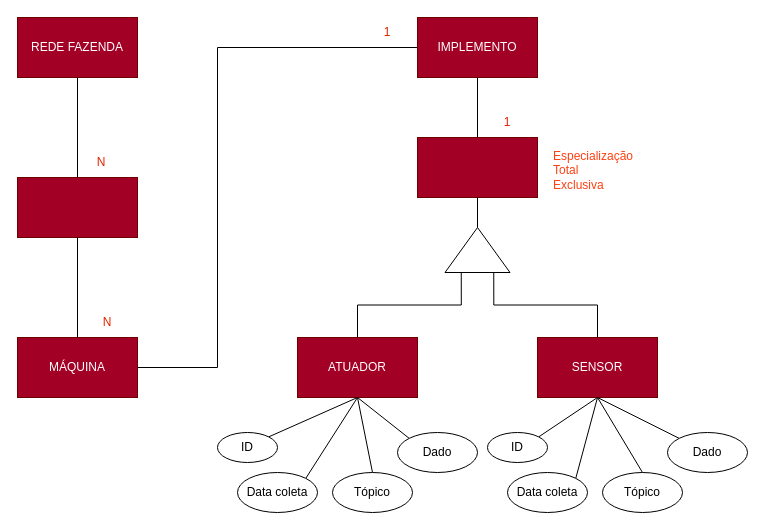
Image size: 765x530. Some labels were removed from this diagram. Here are the shapes that lost their labels. From the top down, the centre of each, then its label:
At point 477,167: "DEVICE IOT".
At point 77,207: "FAZENDA".
